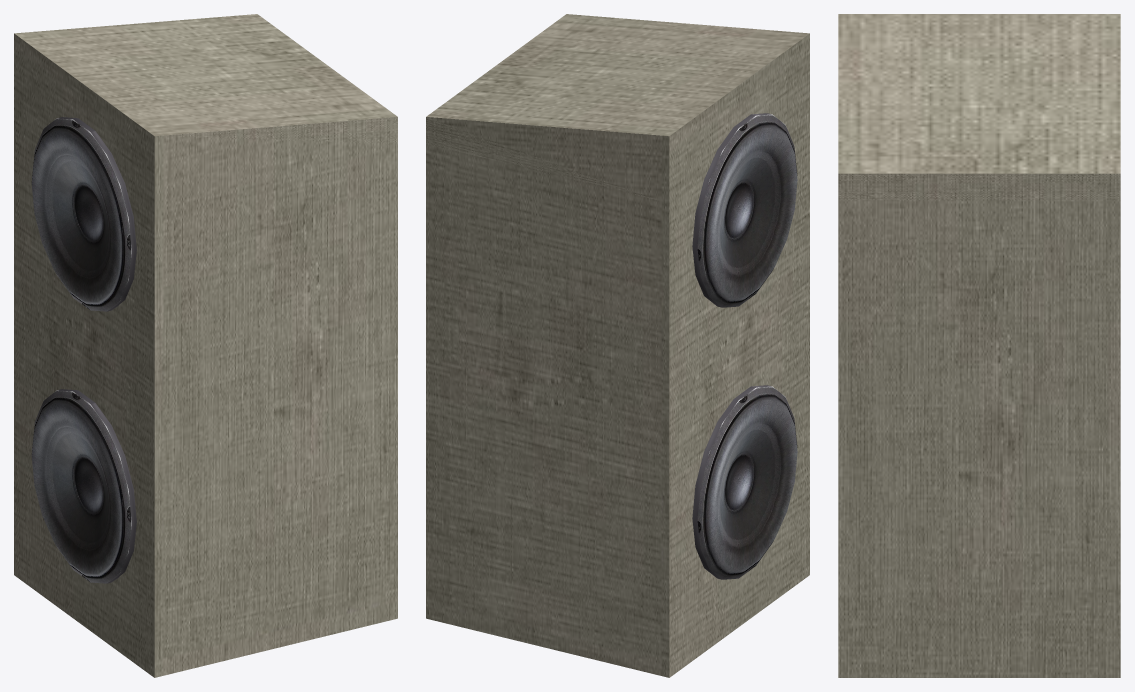
The model's file is Speekers.fbx.
3 renders of one model, left to right at view 1: azimuth 30°, elevation 25°; view 2: azimuth 150°, elevation 25°; view 3: azimuth 270°, elevation 25°, orthographic.
Parts seen in each view (by area): view 1: Cube; view 2: Cube; view 3: Cube.
Boxes of the visible parts, <box> form: Cube: <box>14,14,397,677</box>; Cube: <box>426,14,809,677</box>; Cube: <box>838,14,1120,677</box>.
Bounding box in the file's own units: 209 × 425 × 200.
